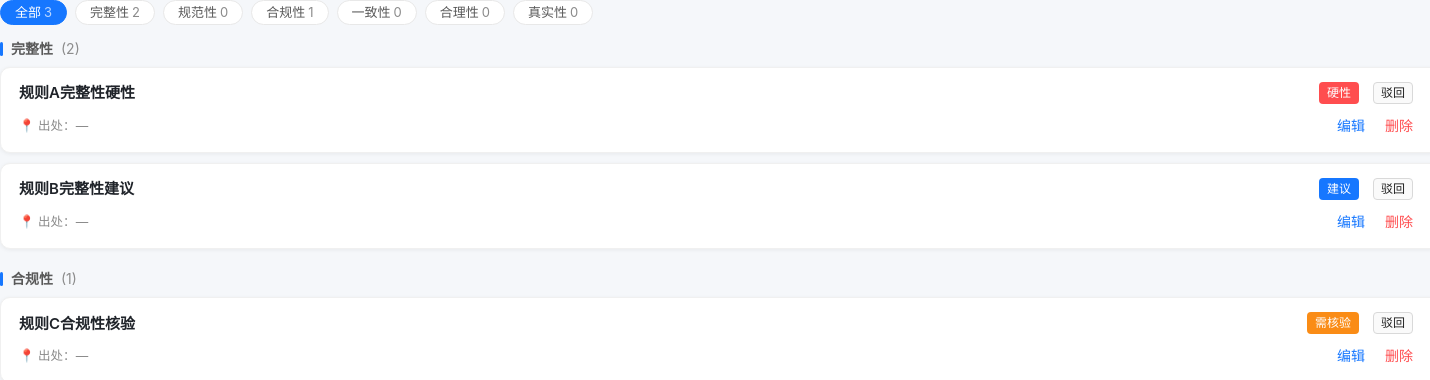
Test: 点击「合规性」chip 只显示合规性规则
The width and height of the screenshot is (1430, 380).
Step 1. Click the element with test id "chip-compliance" → {"x": 290, "y": 12}, box [251,0,328,25]
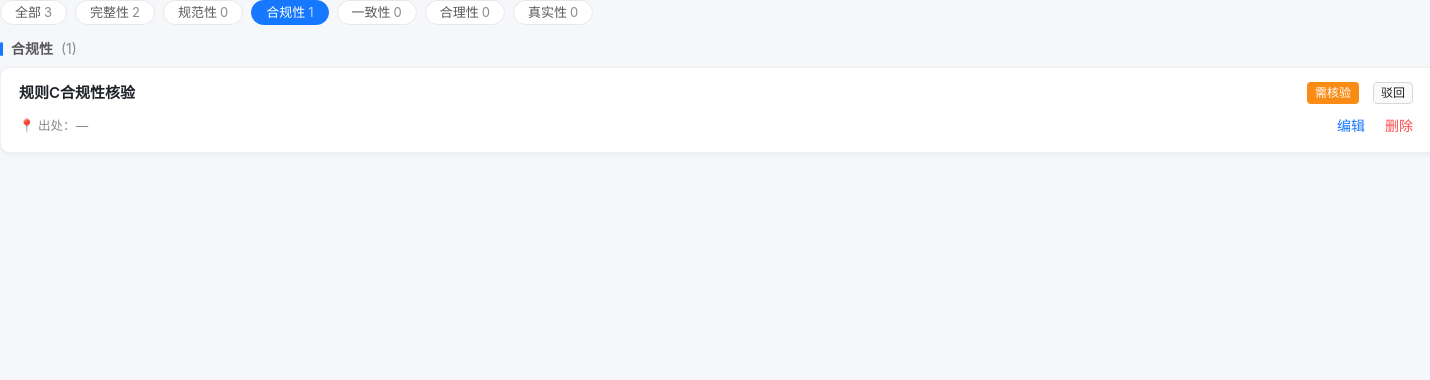
Expected: the text "规则C合规性核验" is shown, [19,84,135,102]
Now the text "规则A完整性硬性" is gone
Now the text "规则B完整性建议" is gone
